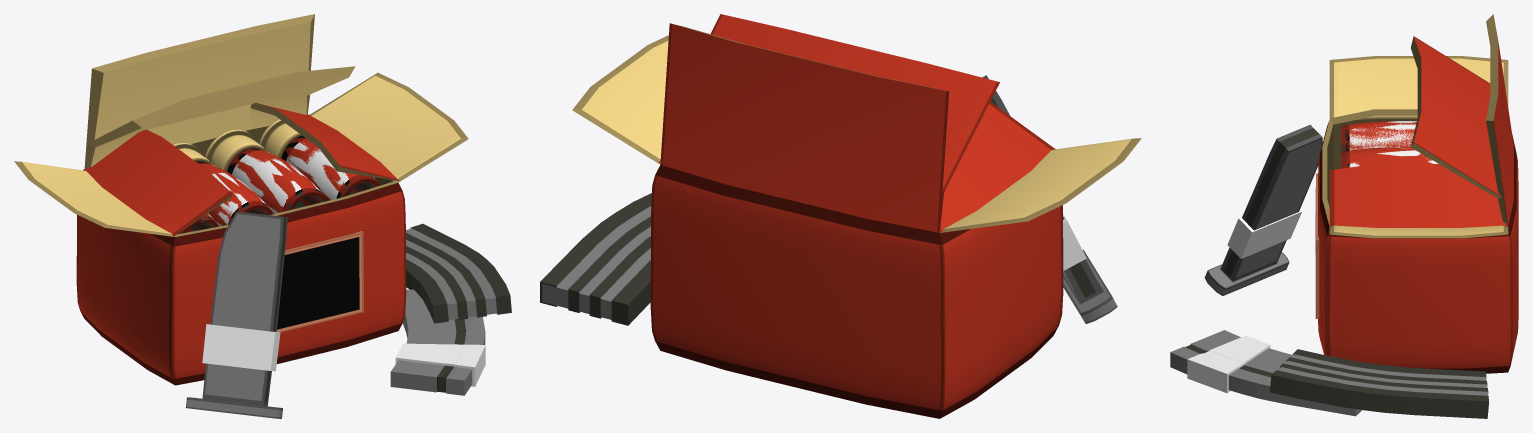
File: AmmoBox 1.fbx
The picture shows the model from 3 angles, left to right: view 1: azimuth 30°, elevation 25°; view 2: azimuth 150°, elevation 25°; view 3: azimuth 270°, elevation 25°; orthographic projection. The views are drawn at different scales.
Visible parts, largest first — view 1: meshAmmoBoxMain, meshAmmoBoxPickup, meshShellsColored; view 2: meshAmmoBoxMain, meshAmmoBoxPickup; view 3: meshAmmoBoxMain, meshAmmoBoxPickup, meshShellsColored.
Boxes of the visible parts, box(x1,y1,x2,y2) form: meshAmmoBoxMain: box(14, 14, 511, 418); meshAmmoBoxPickup: box(83, 66, 400, 236); meshShellsColored: box(175, 120, 380, 234); meshAmmoBoxMain: box(540, 23, 1141, 418); meshAmmoBoxPickup: box(658, 14, 1055, 232); meshAmmoBoxMain: box(1170, 14, 1518, 418); meshAmmoBoxPickup: box(1329, 36, 1508, 227); meshShellsColored: box(1341, 121, 1432, 168).
Bounding box in the file's own units: 369 × 225 × 275.
